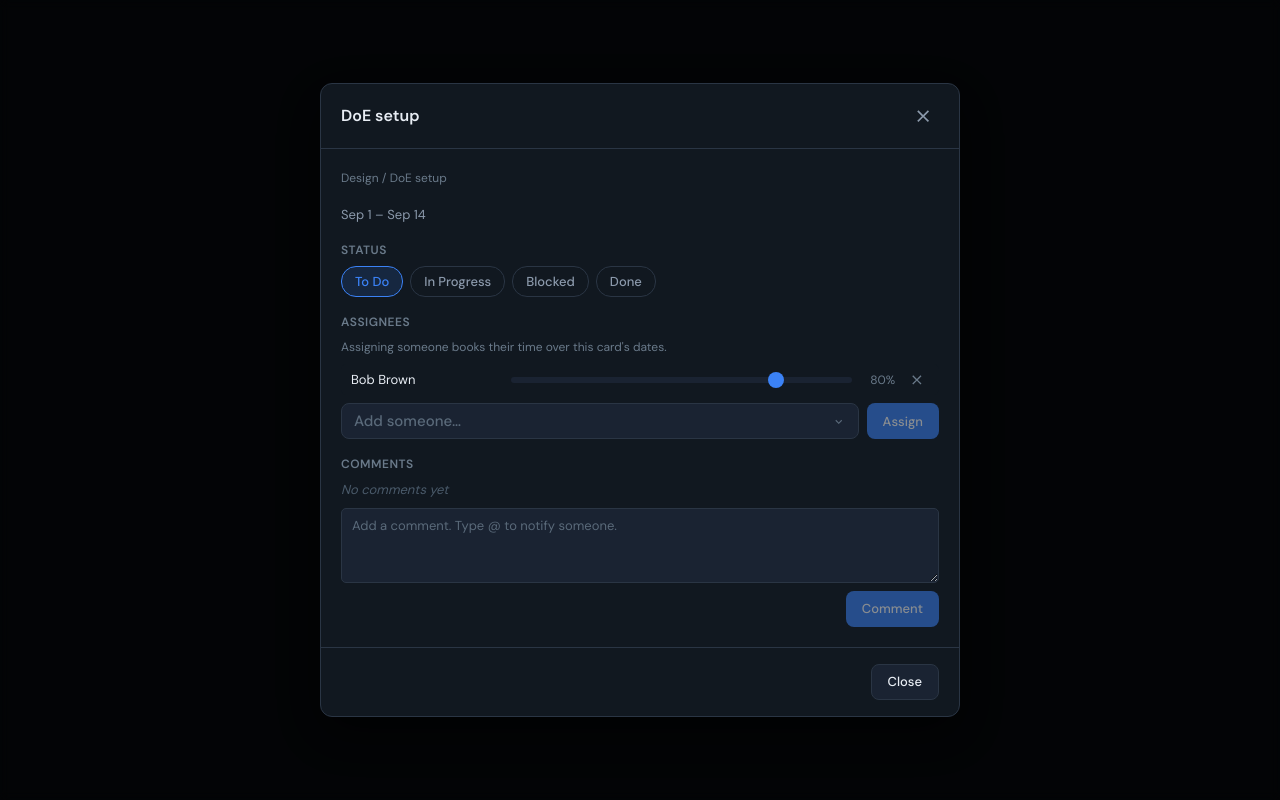
Test: KanbanCardModal @-mentions › Escape closes only the picker, leaving the modal open
In the text box labelled "comment": {"x": 640, "y": 545} [342, 509, 938, 582], type "@Ali"
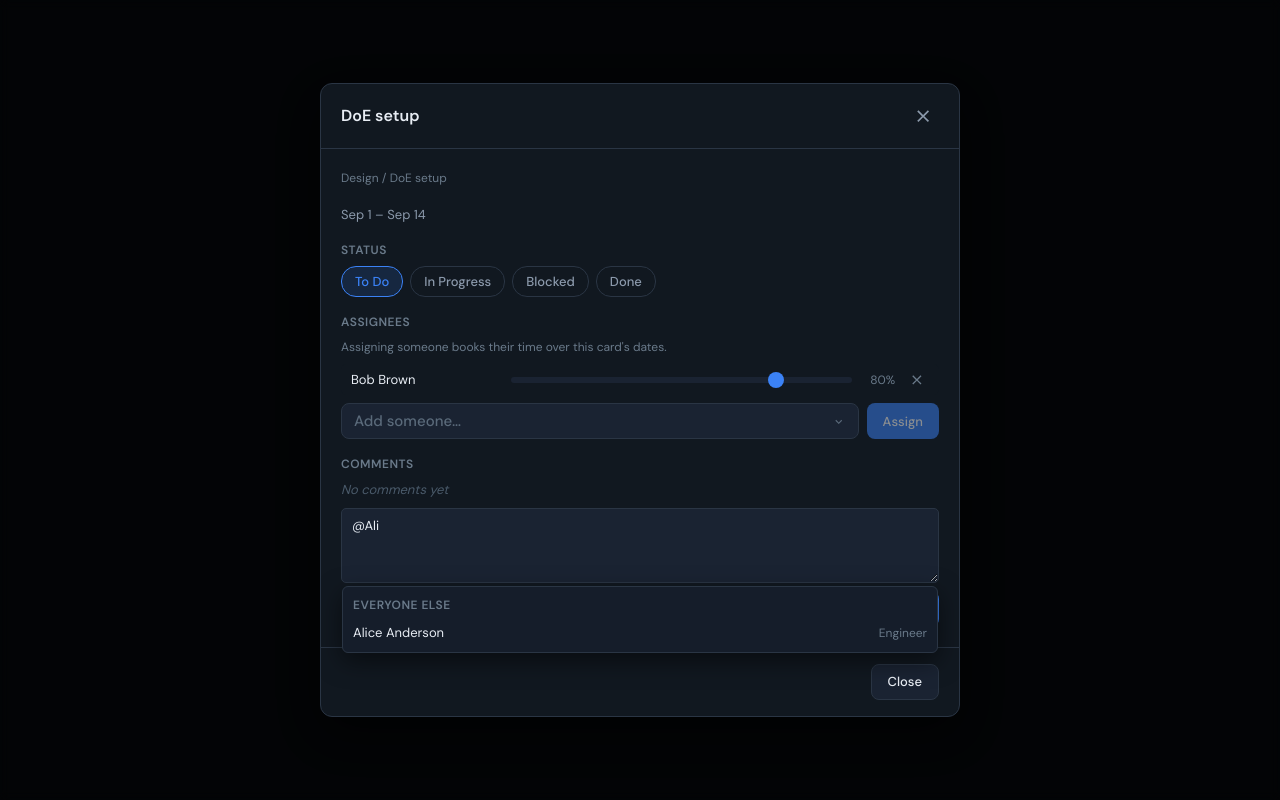
expect the list "Everyone else Alice Anderson Engineer" is shown: met, box [342, 586, 938, 653]
Press Escape in the text box named "comment", box [342, 509, 938, 582]
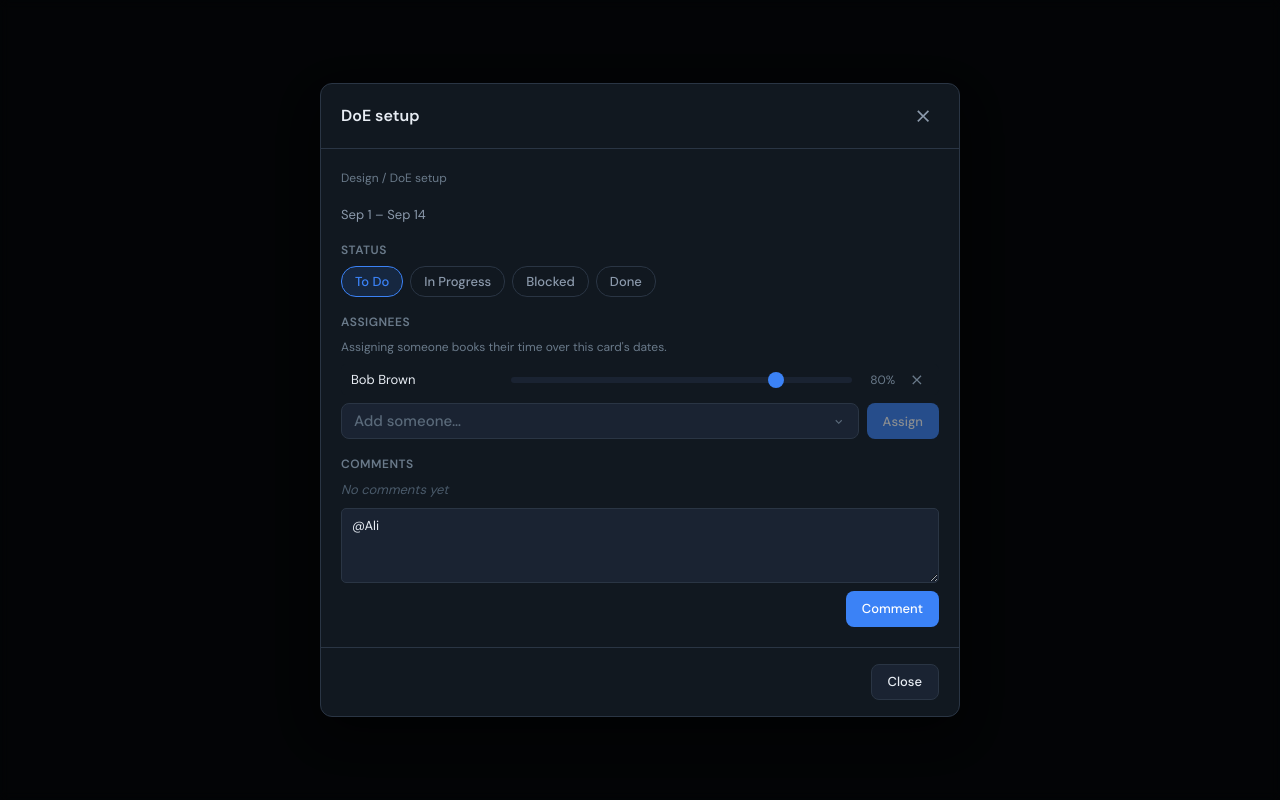
expect the list "Everyone else Alice Anderson Engineer" is gone: met
